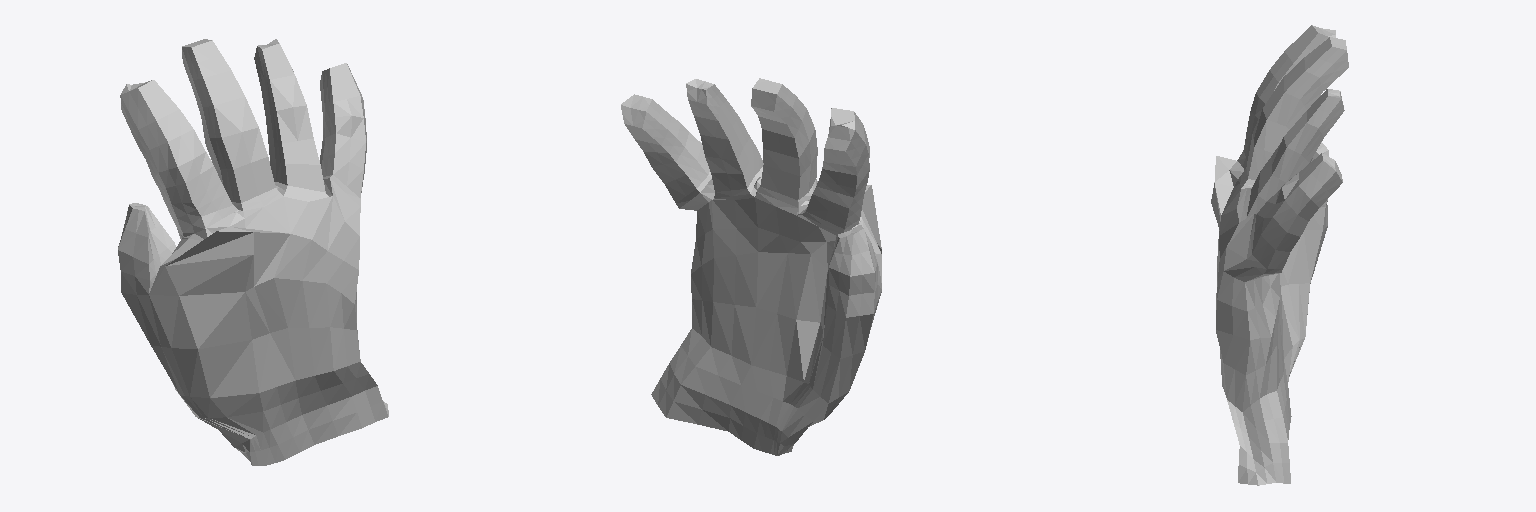
Rendered from grip0017.obj.
3 renders of one model, left to right at view 1: azimuth 30°, elevation 25°; view 2: azimuth 150°, elevation 25°; view 3: azimuth 270°, elevation 25°, orthographic.
Parts seen in each view (by area): view 1: Hand; view 2: Hand; view 3: Hand.
Boxes of the visible parts, <box> form: Hand: <box>118,39,388,465</box>; Hand: <box>621,78,881,455</box>; Hand: <box>1211,25,1348,485</box>.
Size of the model in its own units: 2.99 by 4.68 by 1.46.